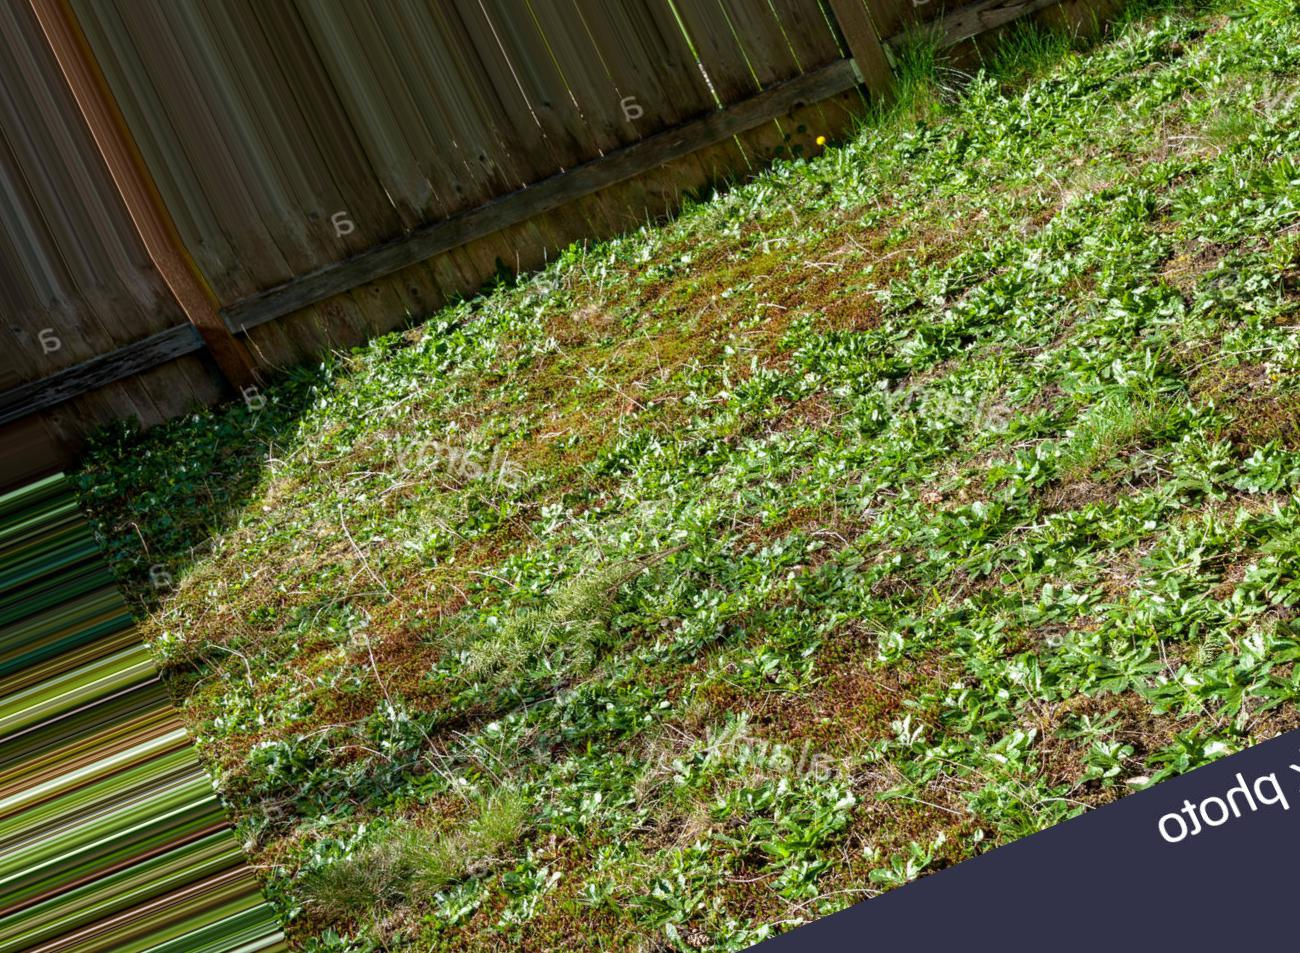patch: (561, 284, 804, 382), (354, 611, 477, 691), (781, 681, 877, 740)
